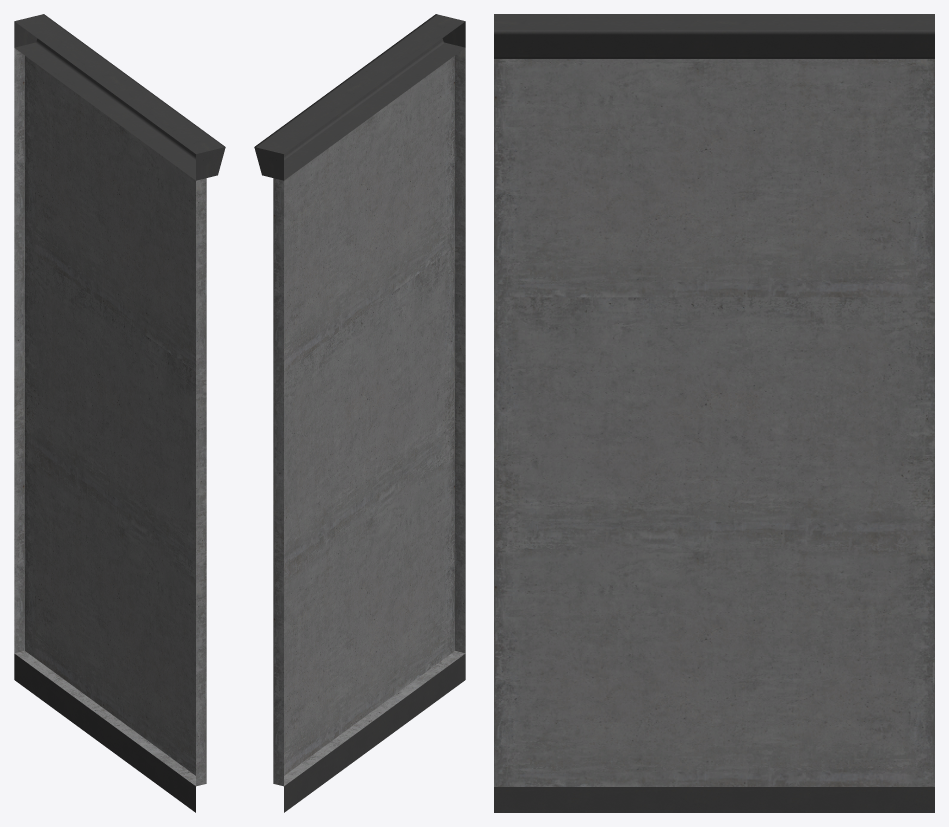
File: SM_dev_wall_200_x_400.fbx
The picture shows the model from 3 angles, left to right: view 1: azimuth 30°, elevation 25°; view 2: azimuth 150°, elevation 25°; view 3: azimuth 270°, elevation 25°; orthographic projection. The views are drawn at different scales.
Visible parts, largest first — view 1: polySurface656, polySurface654; view 2: polySurface656, polySurface654; view 3: polySurface656, polySurface654.
Boxes of the visible parts, box(x1,y1,x2,y2) form: polySurface656: box(14, 48, 206, 786); polySurface654: box(14, 14, 225, 812); polySurface656: box(273, 48, 465, 786); polySurface654: box(254, 14, 465, 812); polySurface656: box(494, 59, 934, 786); polySurface654: box(494, 14, 934, 812).
Size of the model in its own units: 0.1891 by 4 by 2.
